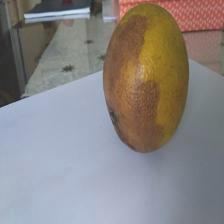Orange Rotten: (101, 0, 194, 159)
